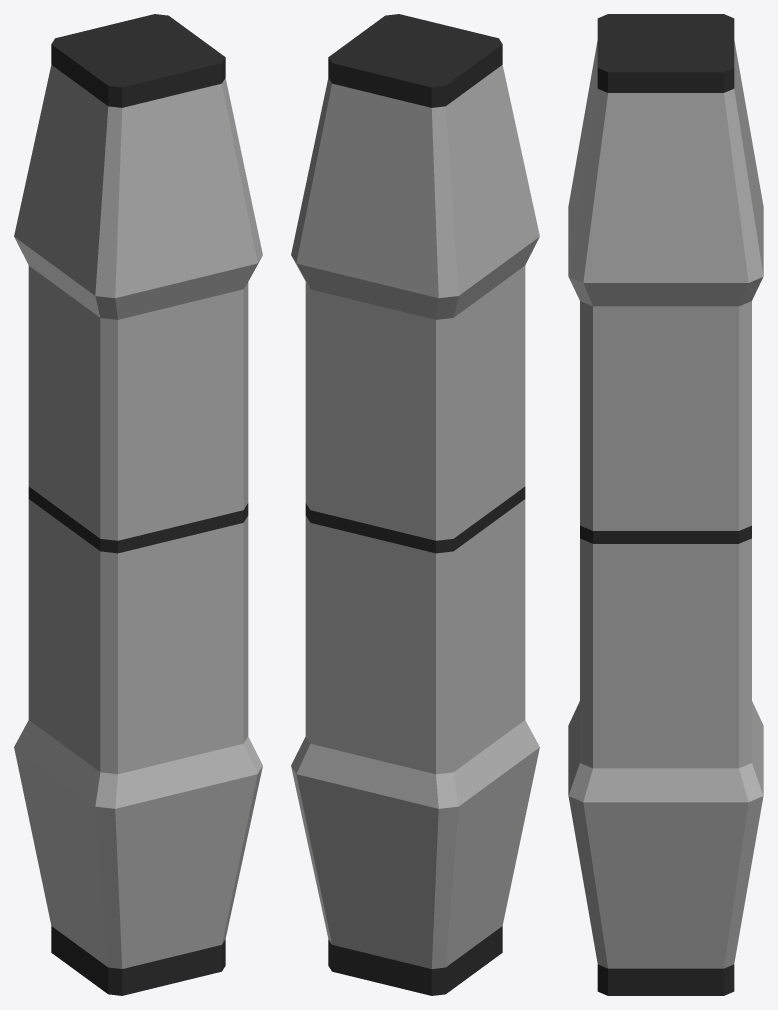
Rendered from bonker.glb.
3 renders of one model, left to right at view 1: azimuth 30°, elevation 25°; view 2: azimuth 150°, elevation 25°; view 3: azimuth 270°, elevation 25°, orthographic.
Visible parts, largest first — view 1: Bonker_collider; view 2: Bonker_collider; view 3: Bonker_collider.
Part boxes in pixels (left/top/right/bottom): Bonker_collider: left=14, top=14, right=262, bottom=995; Bonker_collider: left=291, top=14, right=539, bottom=995; Bonker_collider: left=568, top=14, right=763, bottom=995.
Bounding box in the file's own units: 1.47 × 7.62 × 1.46.
1 material, 1 textured.
